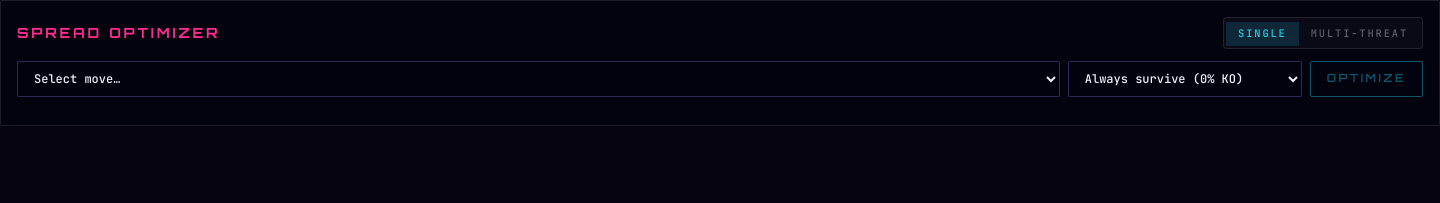
Test case: SpreadOptimizerPanel › shows Nature column and Apply + Nature button when suggestedNatureId present
Select "Earthquake" in the dropdown named "move id" at (538, 79), box [17,61,1060,97]
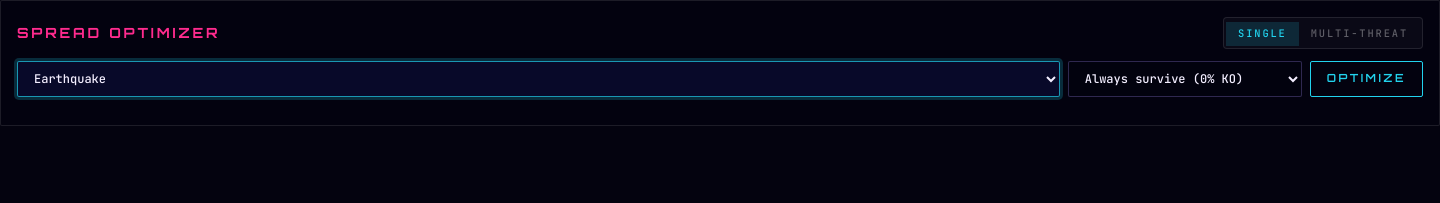
Click the button "Optimize" at (1366, 79), box [1310,61,1423,97]
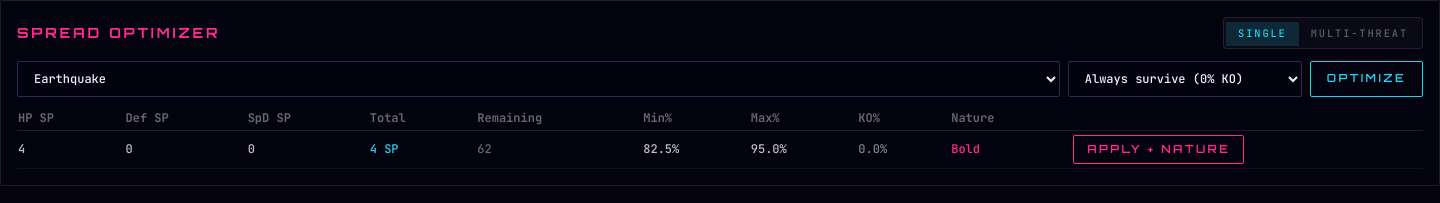
Expected: the column heading "Nature" is shown, [950,109,1072,130]
Expected: the button with aria-label "apply with nature" is shown, [1073,135,1244,164]
